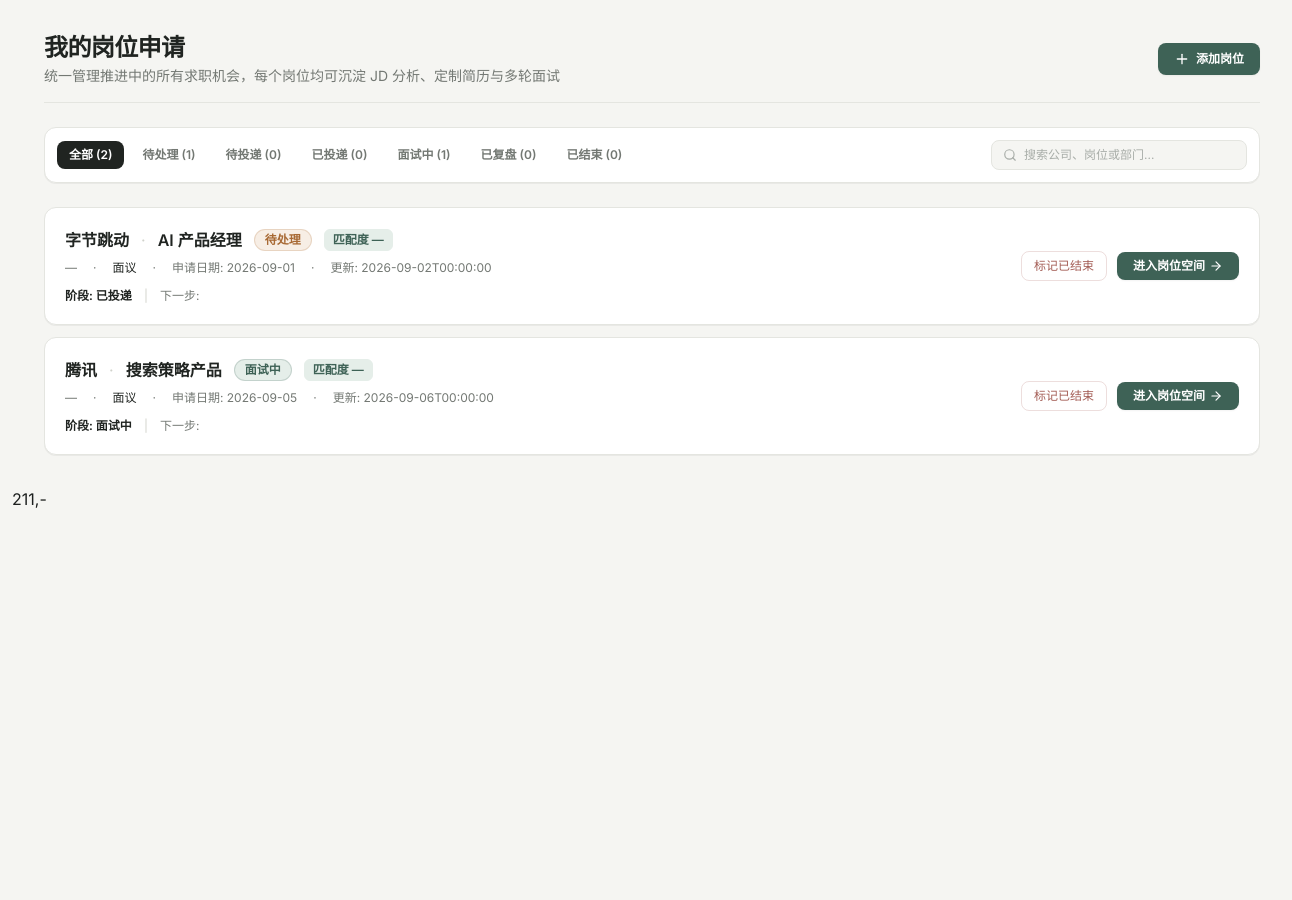
Test: useJobsQuery 迁移视图 › T-M5-6：终止后端失败 → 乐观回滚 + 错误 toast（不再静默吞错）
Expected: the text "字节跳动" is shown, x1=65 y1=228 x2=129 y2=252
Click the button "标记已结束" in the row of "2026-09-02T00:00:00" at (1064, 266), box x1=1021 y1=251 x2=1107 y2=281
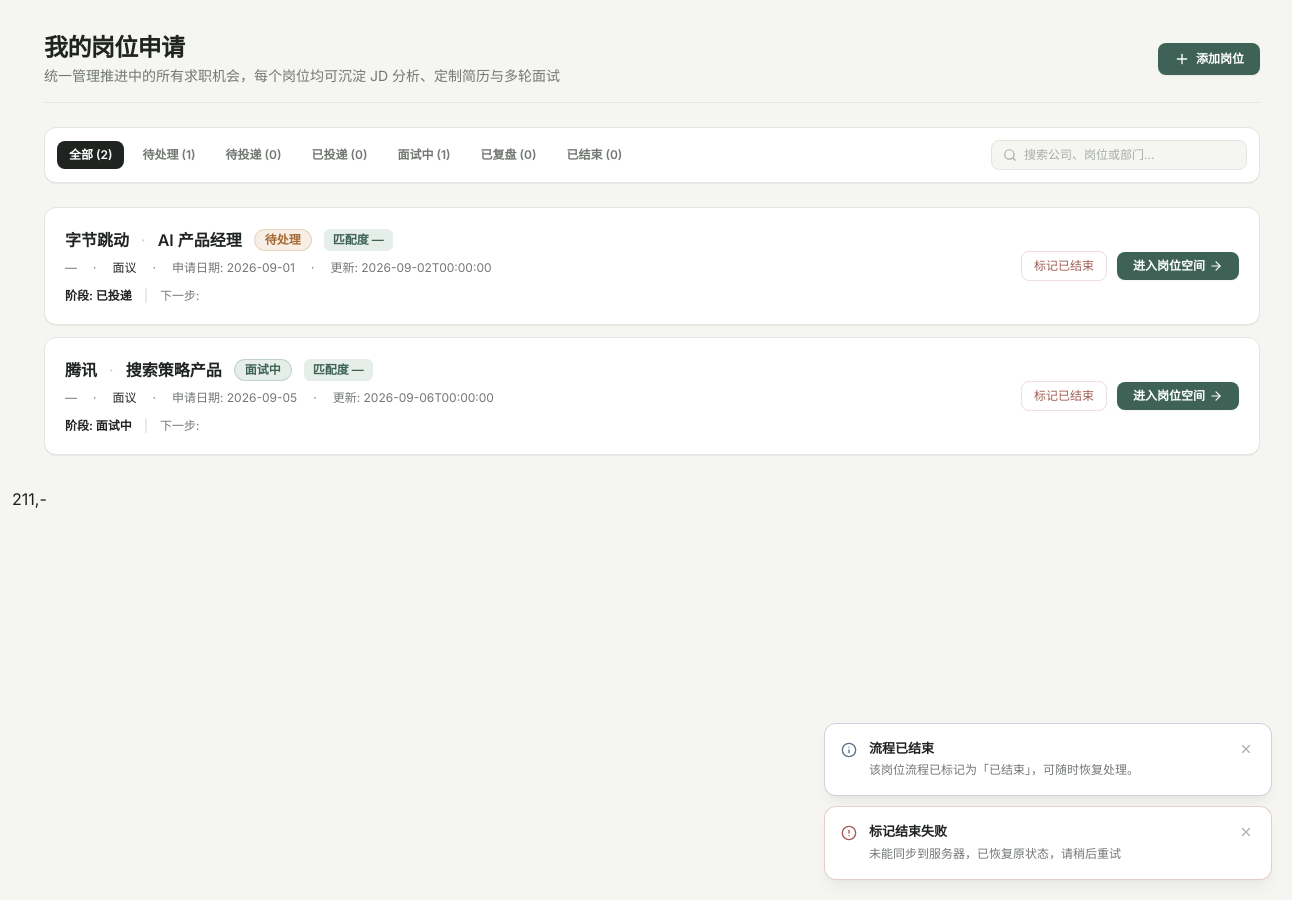
Expected: the button "已结束 (0)" is shown, x1=554 y1=141 x2=634 y2=169
Expected: the heading "标记结束失败" is shown, x1=869 y1=823 x2=947 y2=839
